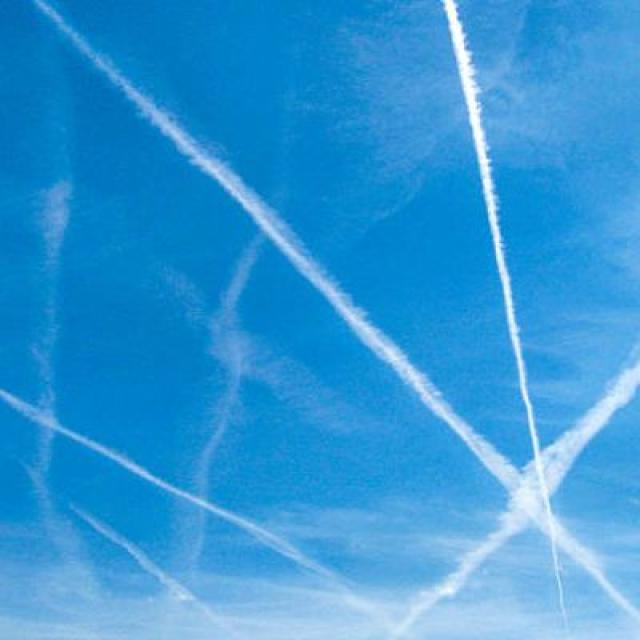Ct: (1, 22, 635, 582)
